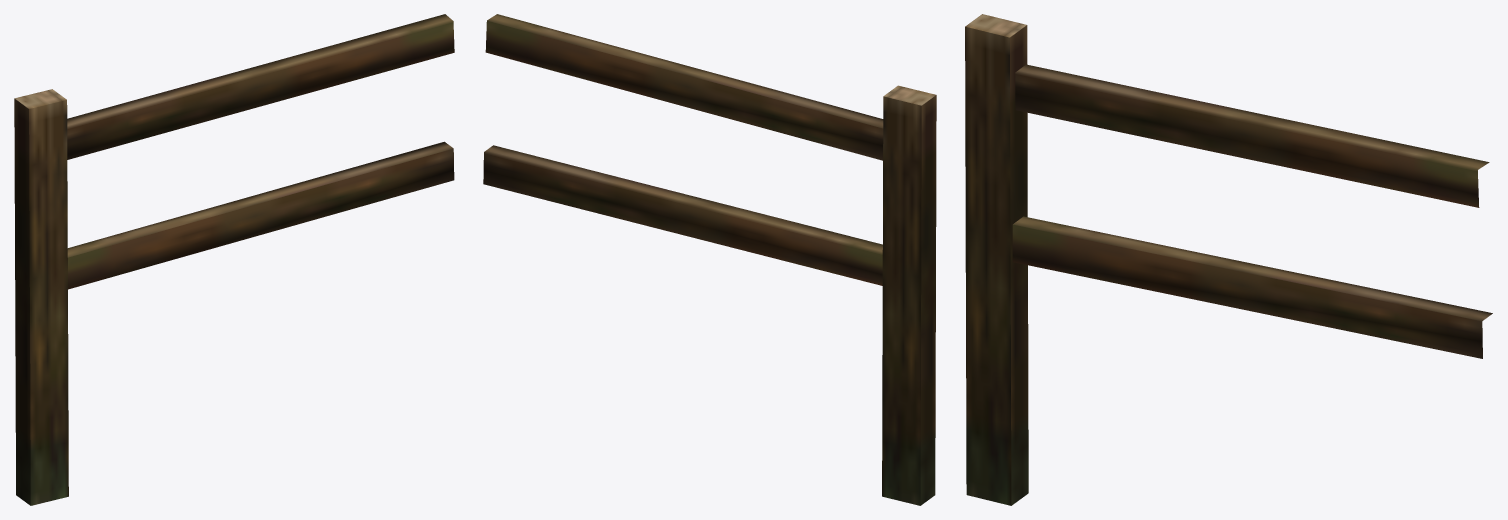
File: general_obj_fence04.glb
3 views of the same model, side by side, from view 1: azimuth 30°, elevation 25°; view 2: azimuth 150°, elevation 25°; view 3: azimuth 330°, elevation 25° (orthographic). The views are drawn at different scales.
Parts seen in each view (by area): view 1: Sphere01; view 2: Sphere01; view 3: Sphere01.
Part boxes in pixels (x1,y1,x2,y2): Sphere01: (14, 14, 454, 505); Sphere01: (483, 14, 936, 505); Sphere01: (965, 14, 1492, 505).
Size of the model in its own units: 2.44 by 2.14 by 0.1635.
Materials: 1 (1 with a texture image).
